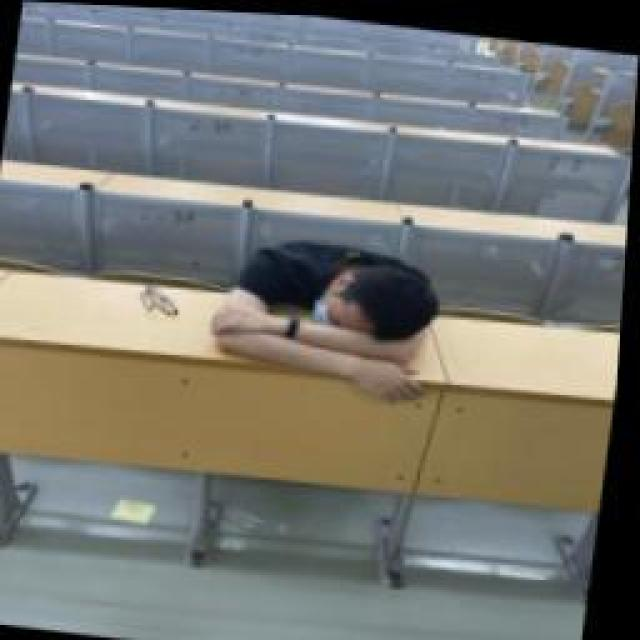sleep: (210, 225, 445, 400)
